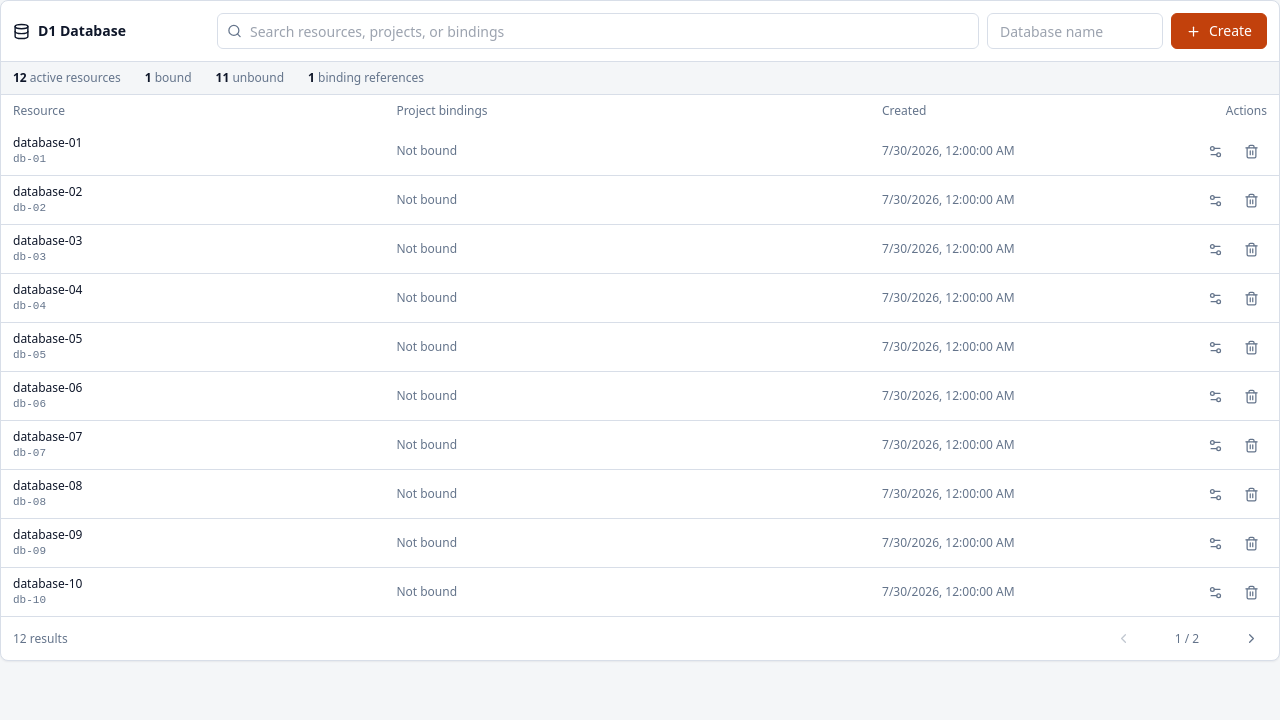
Scenario: ResourceInventoryList › shows binding capacity, searches bindings, and paginates resources
Check: the text "12" is shown, box [13,69,27,86]
Check: the text "1" is shown 2 times, box [145,69,152,86]; [308,69,315,86]
Click the button titled "Next page": (1251, 638) [1235,622,1267,654]
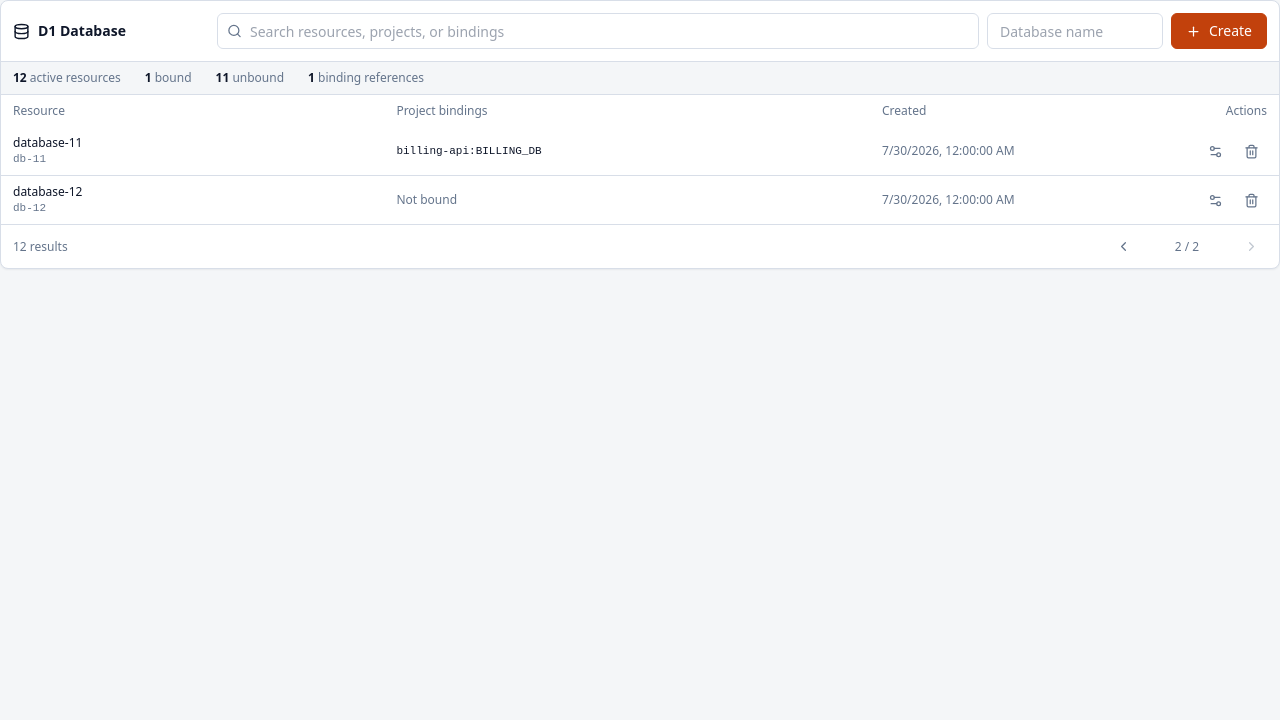
Check: the text "database-11" is shown, box [13,134,82,151]
Check: the text "billing-api:BILLING_DB" is shown, box [396,143,542,159]
In the field with placeholder "Search resources, projects, or bindings": (598, 31) [217,13,979,49], type "BILLING_DB"
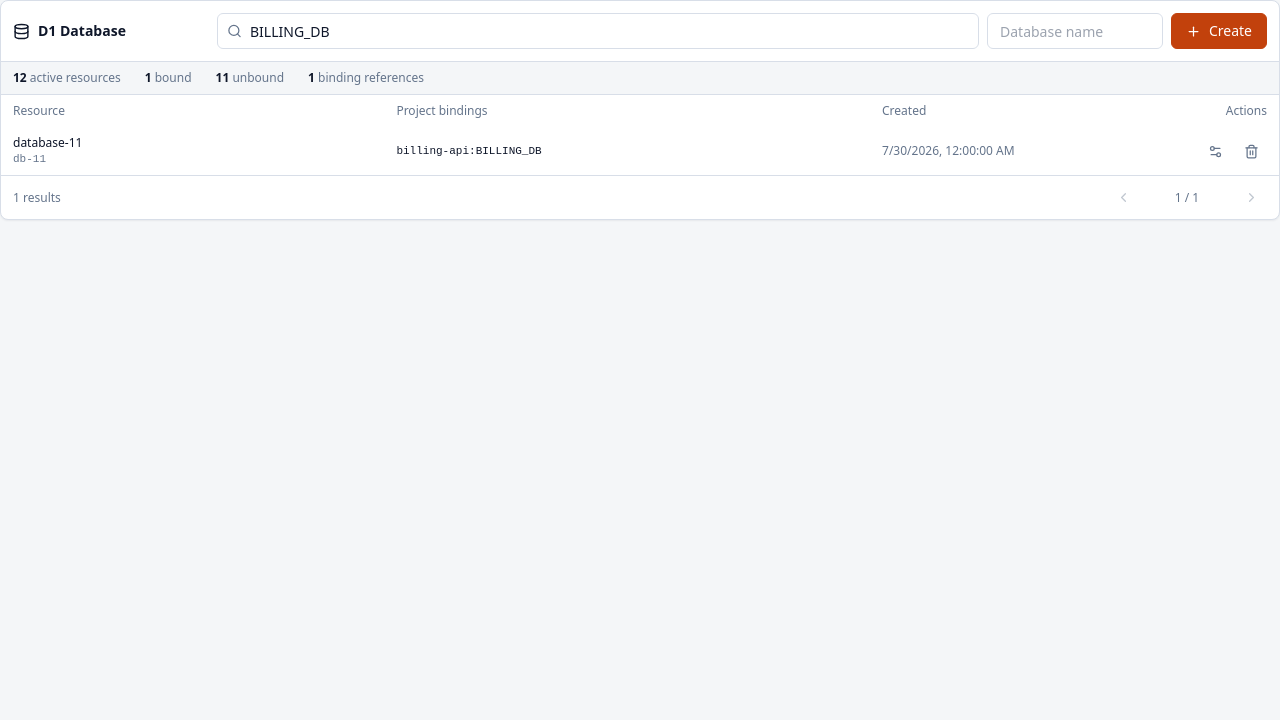
Check: the text "database-11" is shown, box [13,134,82,151]
Check: the text "database-12" is gone
